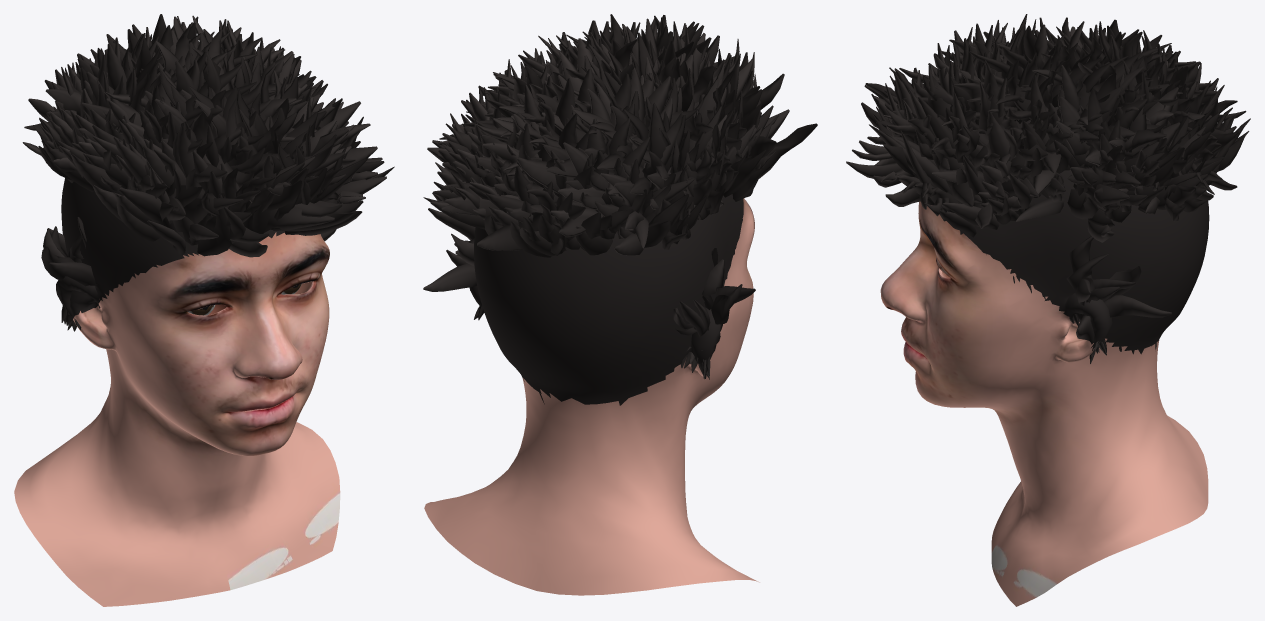
The model's file is head.glb.
3 renders of one model, left to right at view 1: azimuth 30°, elevation 25°; view 2: azimuth 150°, elevation 25°; view 3: azimuth 270°, elevation 25°, orthographic. The views are drawn at different scales.
Parts seen in each view (by area): view 1: Skin, Hair; view 2: Hair, Skin; view 3: Hair, Skin.
Boxes of the visible parts, x1,y1,x2,y2 form: Skin: (14,232,340,606); Hair: (22,14,394,331); Hair: (423,14,817,405); Skin: (424,198,759,595); Hair: (846,14,1250,363); Skin: (880,201,1208,606).
Bounding box in the file's own units: 0.2322 × 0.373 × 0.2596.
Materials: 3 (1 with a texture image).
